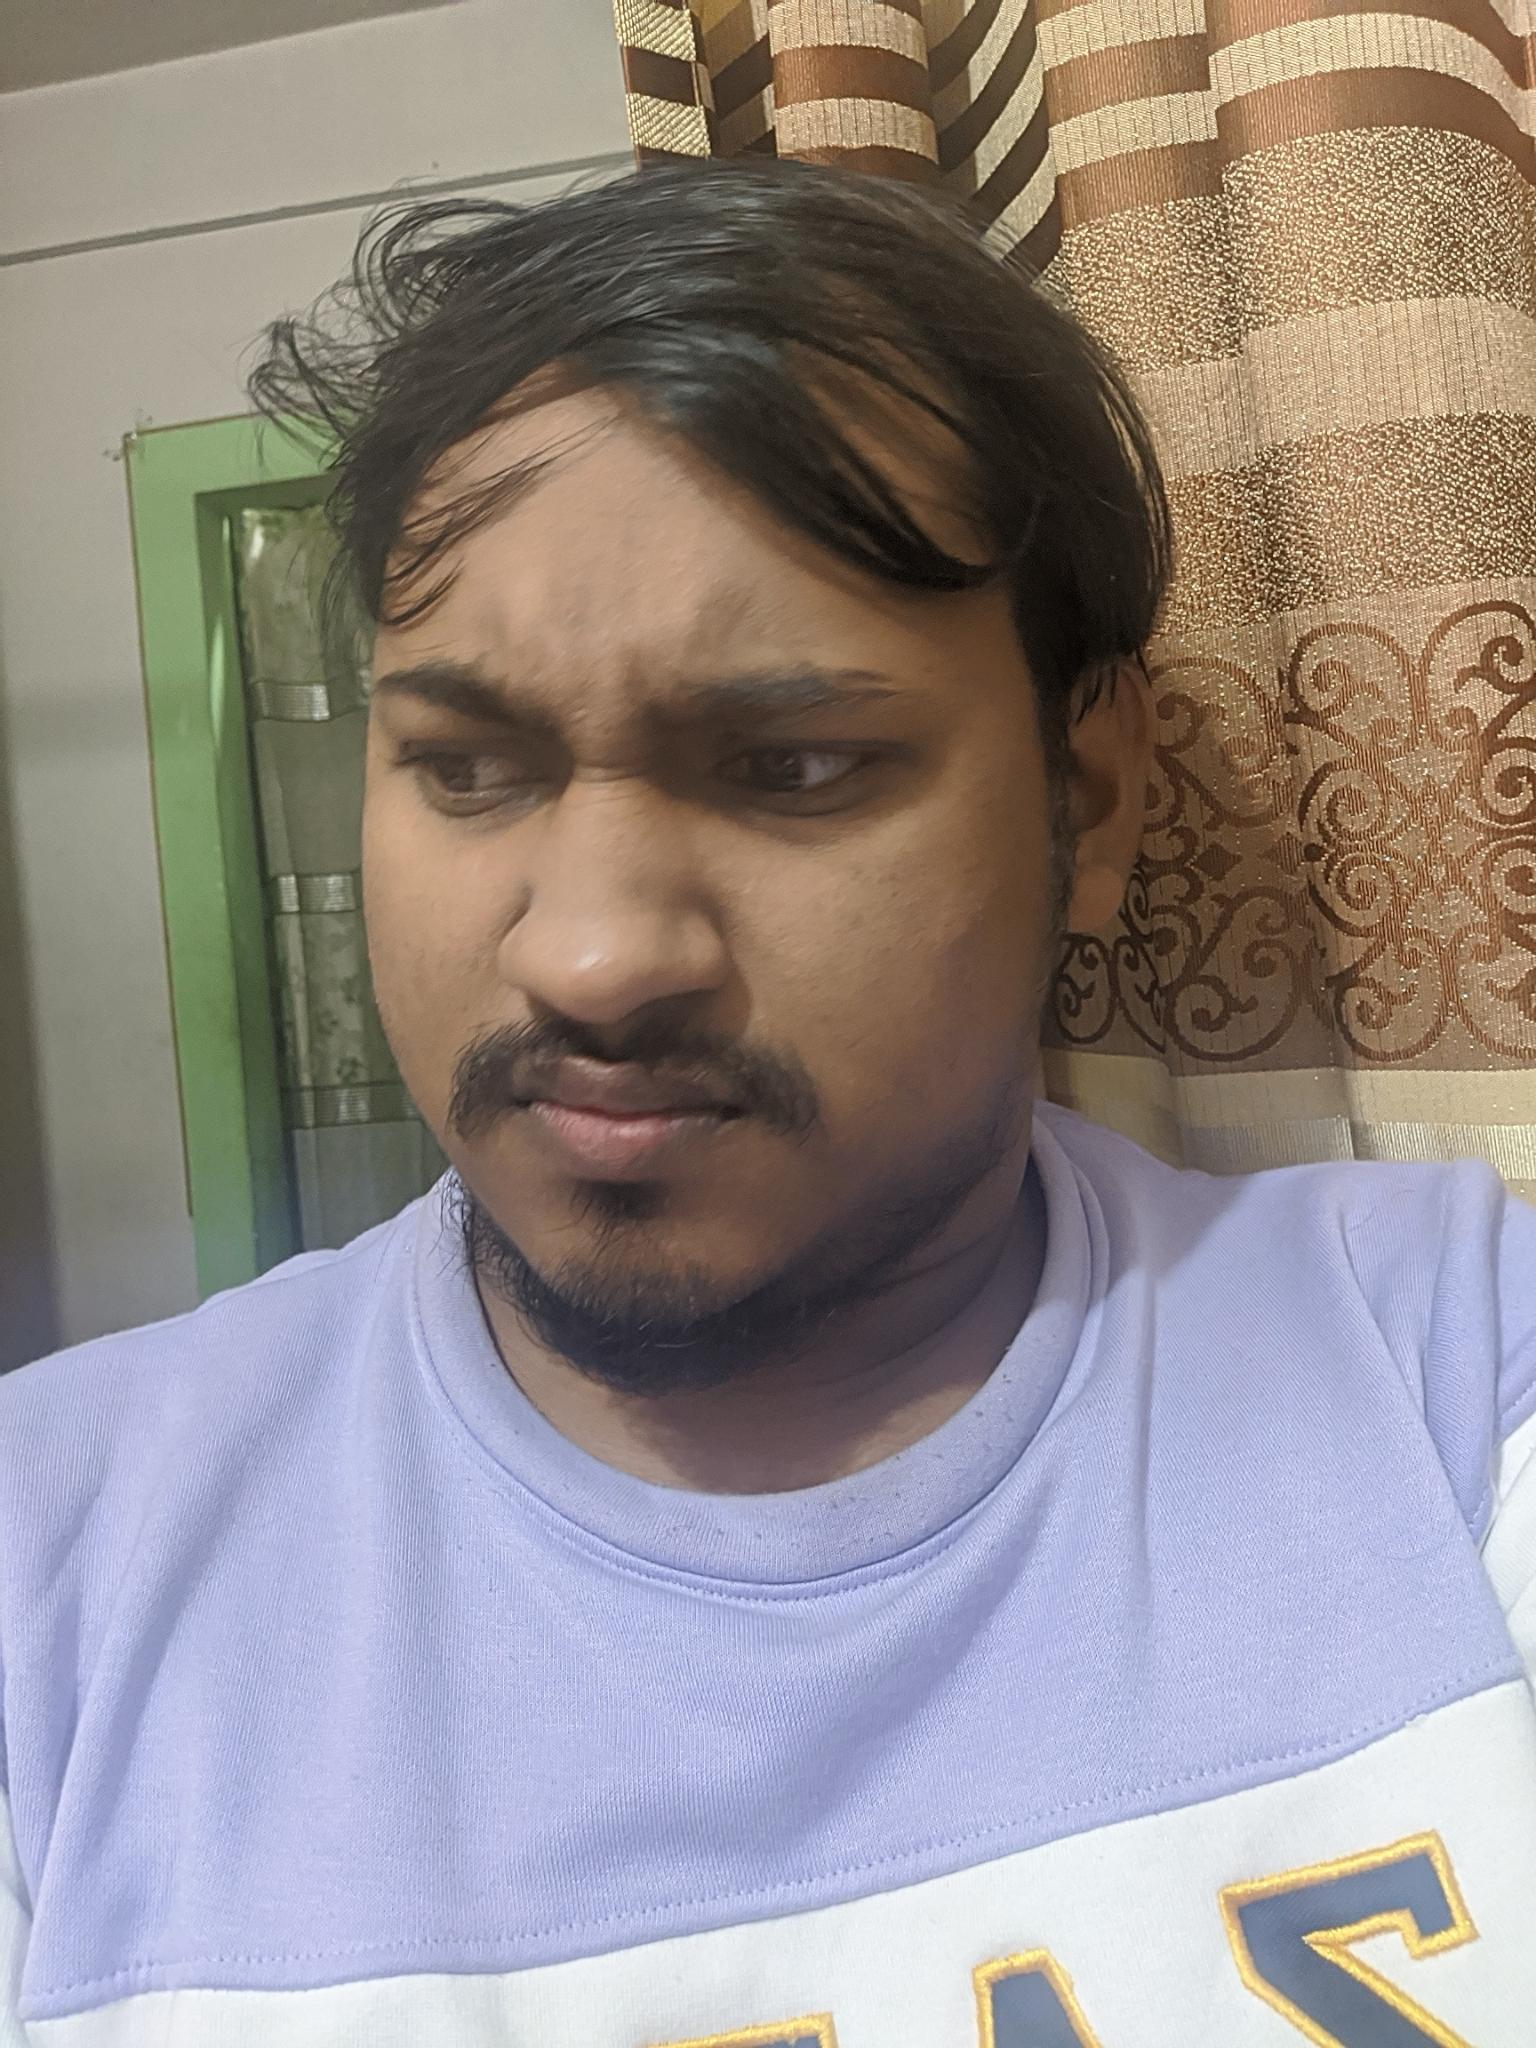Angry: (295, 592, 1042, 1372)
